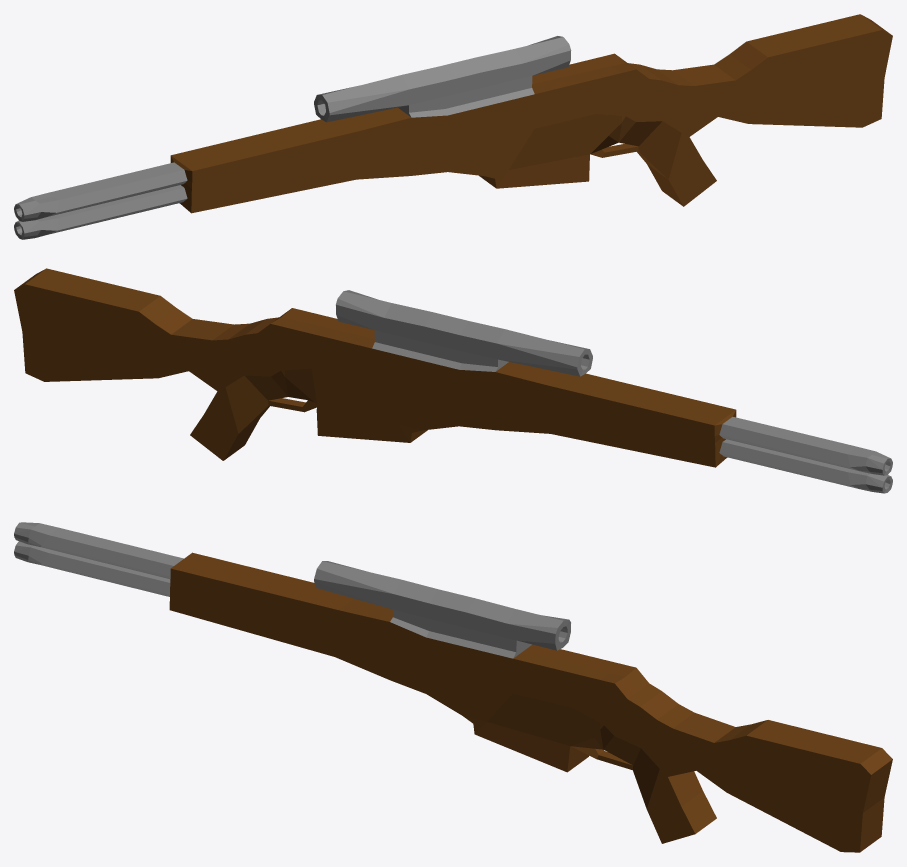
Rendered from SNIPER_SHOTGUN.fbx.
The picture shows the model from 3 angles, top to bottom: view 1: azimuth 30°, elevation 25°; view 2: azimuth 150°, elevation 25°; view 3: azimuth 330°, elevation 25°; orthographic projection.
Visible parts, largest first — view 1: Cube; view 2: Cube; view 3: Cube.
Part boxes in pixels (x1,y1,x2,y2): Cube: (14, 14, 892, 239); Cube: (14, 268, 892, 493); Cube: (14, 522, 892, 852).
Bounding box in the file's own units: 398 × 83.83 × 17.53.
